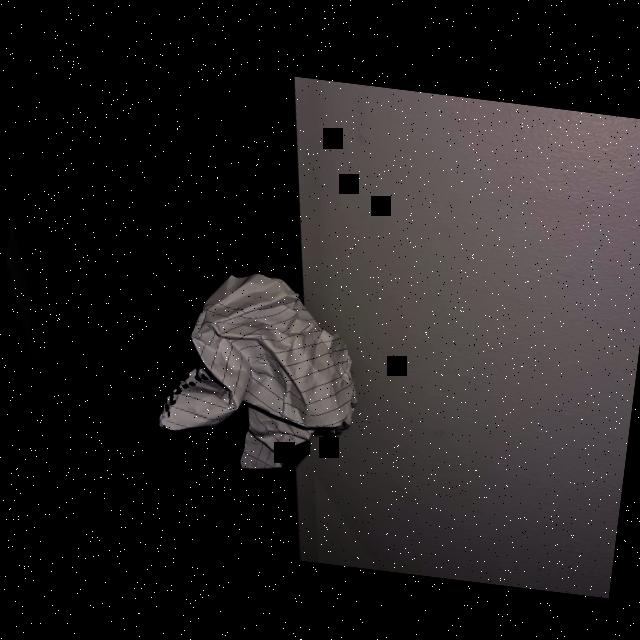scrap_paper: (150, 254, 368, 494)
